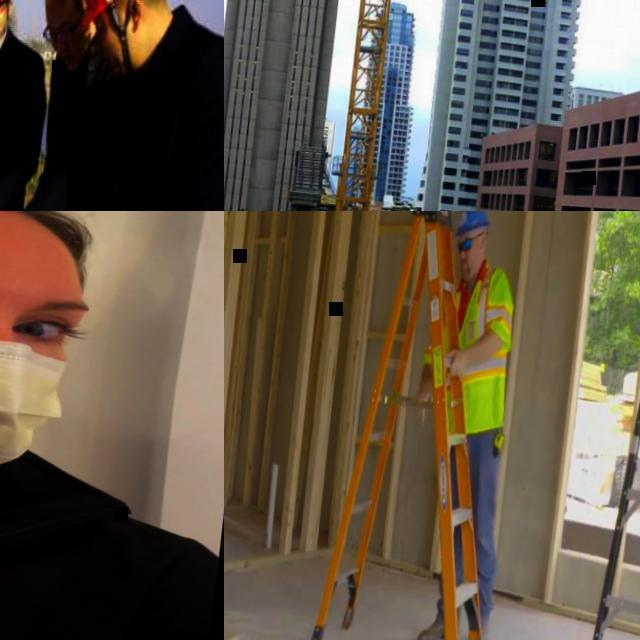helmet: (73, 0, 171, 41), (455, 211, 491, 237)
vest: (421, 254, 519, 390)
